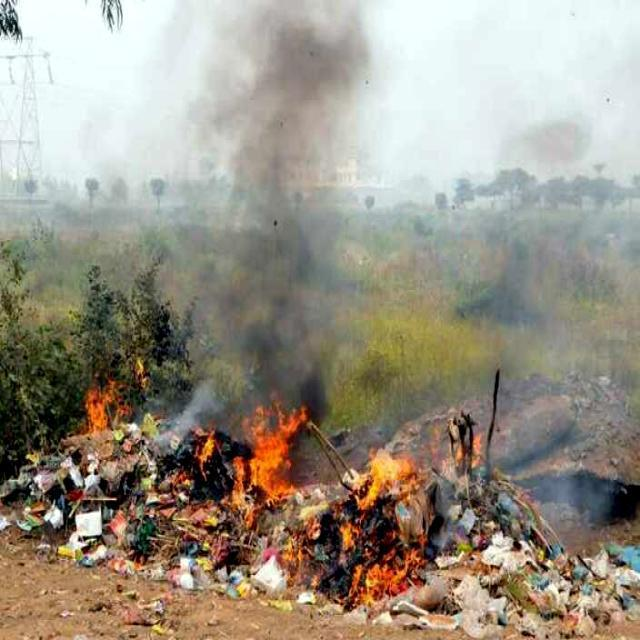Fire: (212, 393, 316, 552), (334, 436, 436, 594), (70, 392, 138, 450)
Smoke: (27, 15, 640, 498)
